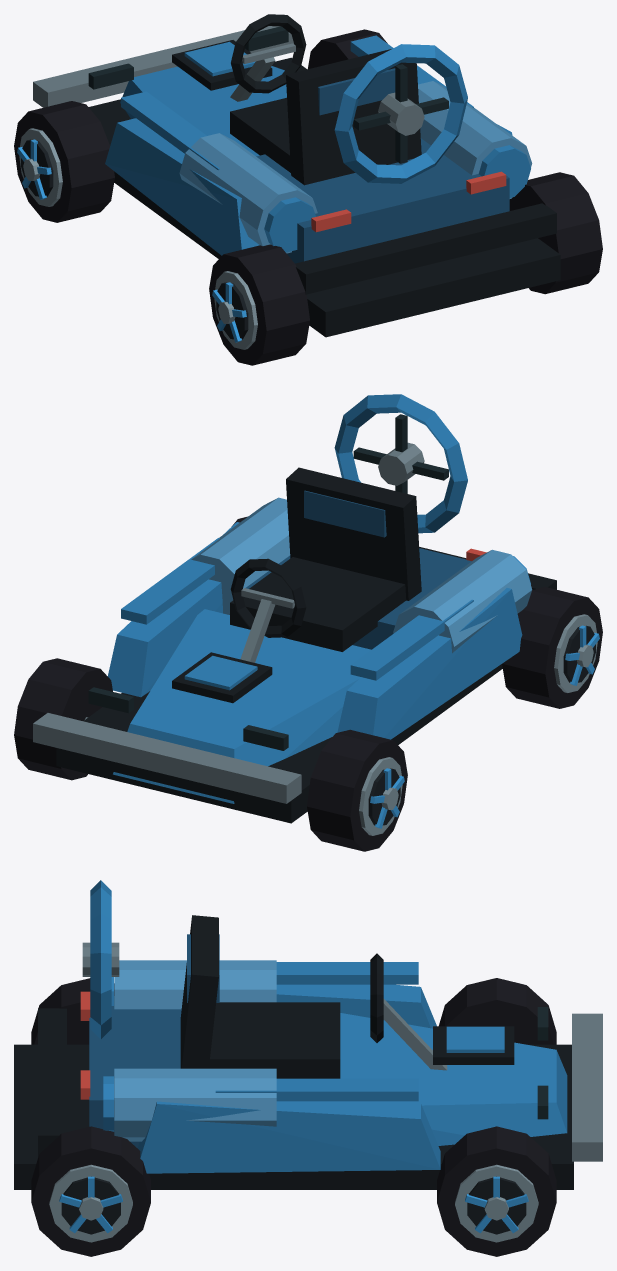
The model's file is kart.glb.
3 views of the same model, one above another, from view 1: azimuth 30°, elevation 25°; view 2: azimuth 150°, elevation 25°; view 3: azimuth 270°, elevation 25° (orthographic). The views are drawn at different scales.
Visible parts, largest first — view 1: chassis, wheel-rear-left, wheel-front-left, wheel-rear-right, wheel-front-right; view 2: chassis, wheel-front-left, wheel-rear-left, wheel-front-right; view 3: chassis, wheel-front-right, wheel-rear-right, wheel-front-left, wheel-rear-left.
Part boxes in pixels (<box>): chassis: <box>33,14,560,337</box>; wheel-rear-left: <box>209,244,309,365</box>; wheel-front-left: <box>14,101,114,222</box>; wheel-rear-right: <box>509,172,602,294</box>; wheel-front-right: <box>308,29,387,69</box>; chassis: <box>33,394,556,823</box>; wheel-front-left: <box>307,729,407,851</box>; wheel-rear-left: <box>502,587,602,708</box>; wheel-front-right: <box>14,658,112,780</box>; chassis: <box>14,880,602,1189</box>; wheel-front-right: <box>437,1126,556,1256</box>; wheel-rear-right: <box>31,1126,150,1256</box>; wheel-front-left: <box>439,978,556,1044</box>; wheel-rear-left: <box>31,978,114,1044</box>.
Bounding box in the file's own units: 2.26 × 1.63 × 3.05.
